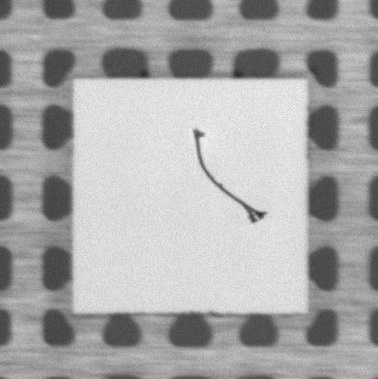DIE_INK: (190, 128, 267, 226)
